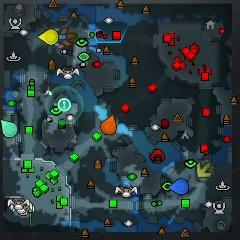Other: (58, 98, 71, 112)
p1: (170, 178, 189, 194)
p2: (1, 120, 19, 138)
p4: (38, 29, 58, 45)
p5: (101, 115, 116, 135)
x1: (58, 42, 65, 50)
x2: (196, 161, 212, 177)
x3: (56, 33, 68, 41)
x5: (61, 27, 77, 46)
